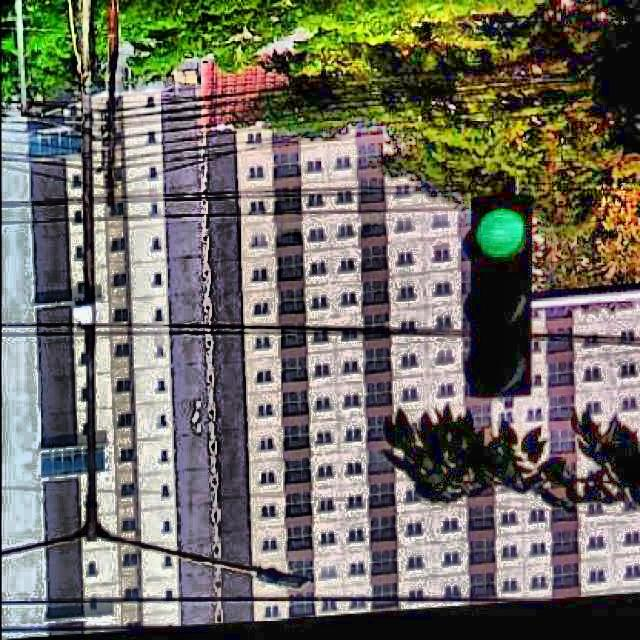green: (468, 179, 543, 399)
